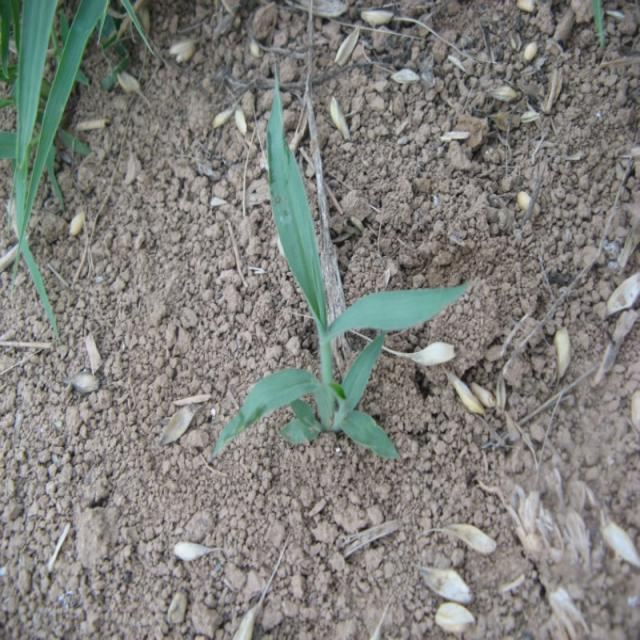bg: (214, 70, 473, 461)
